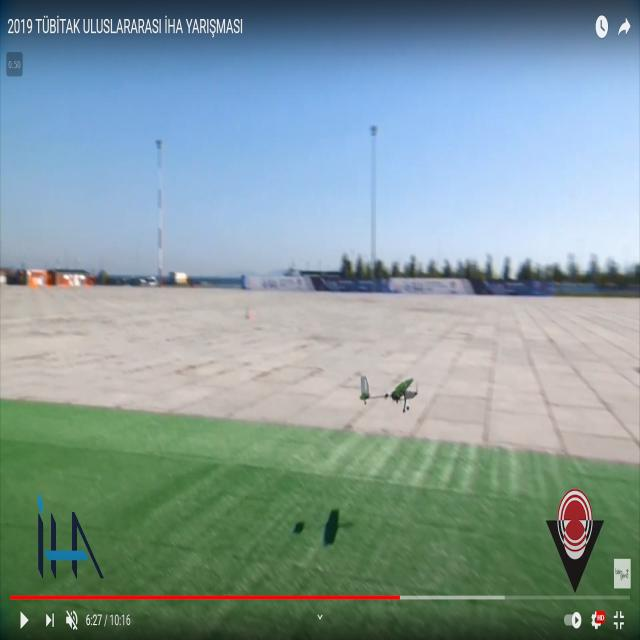iha: (360, 365, 420, 410)
